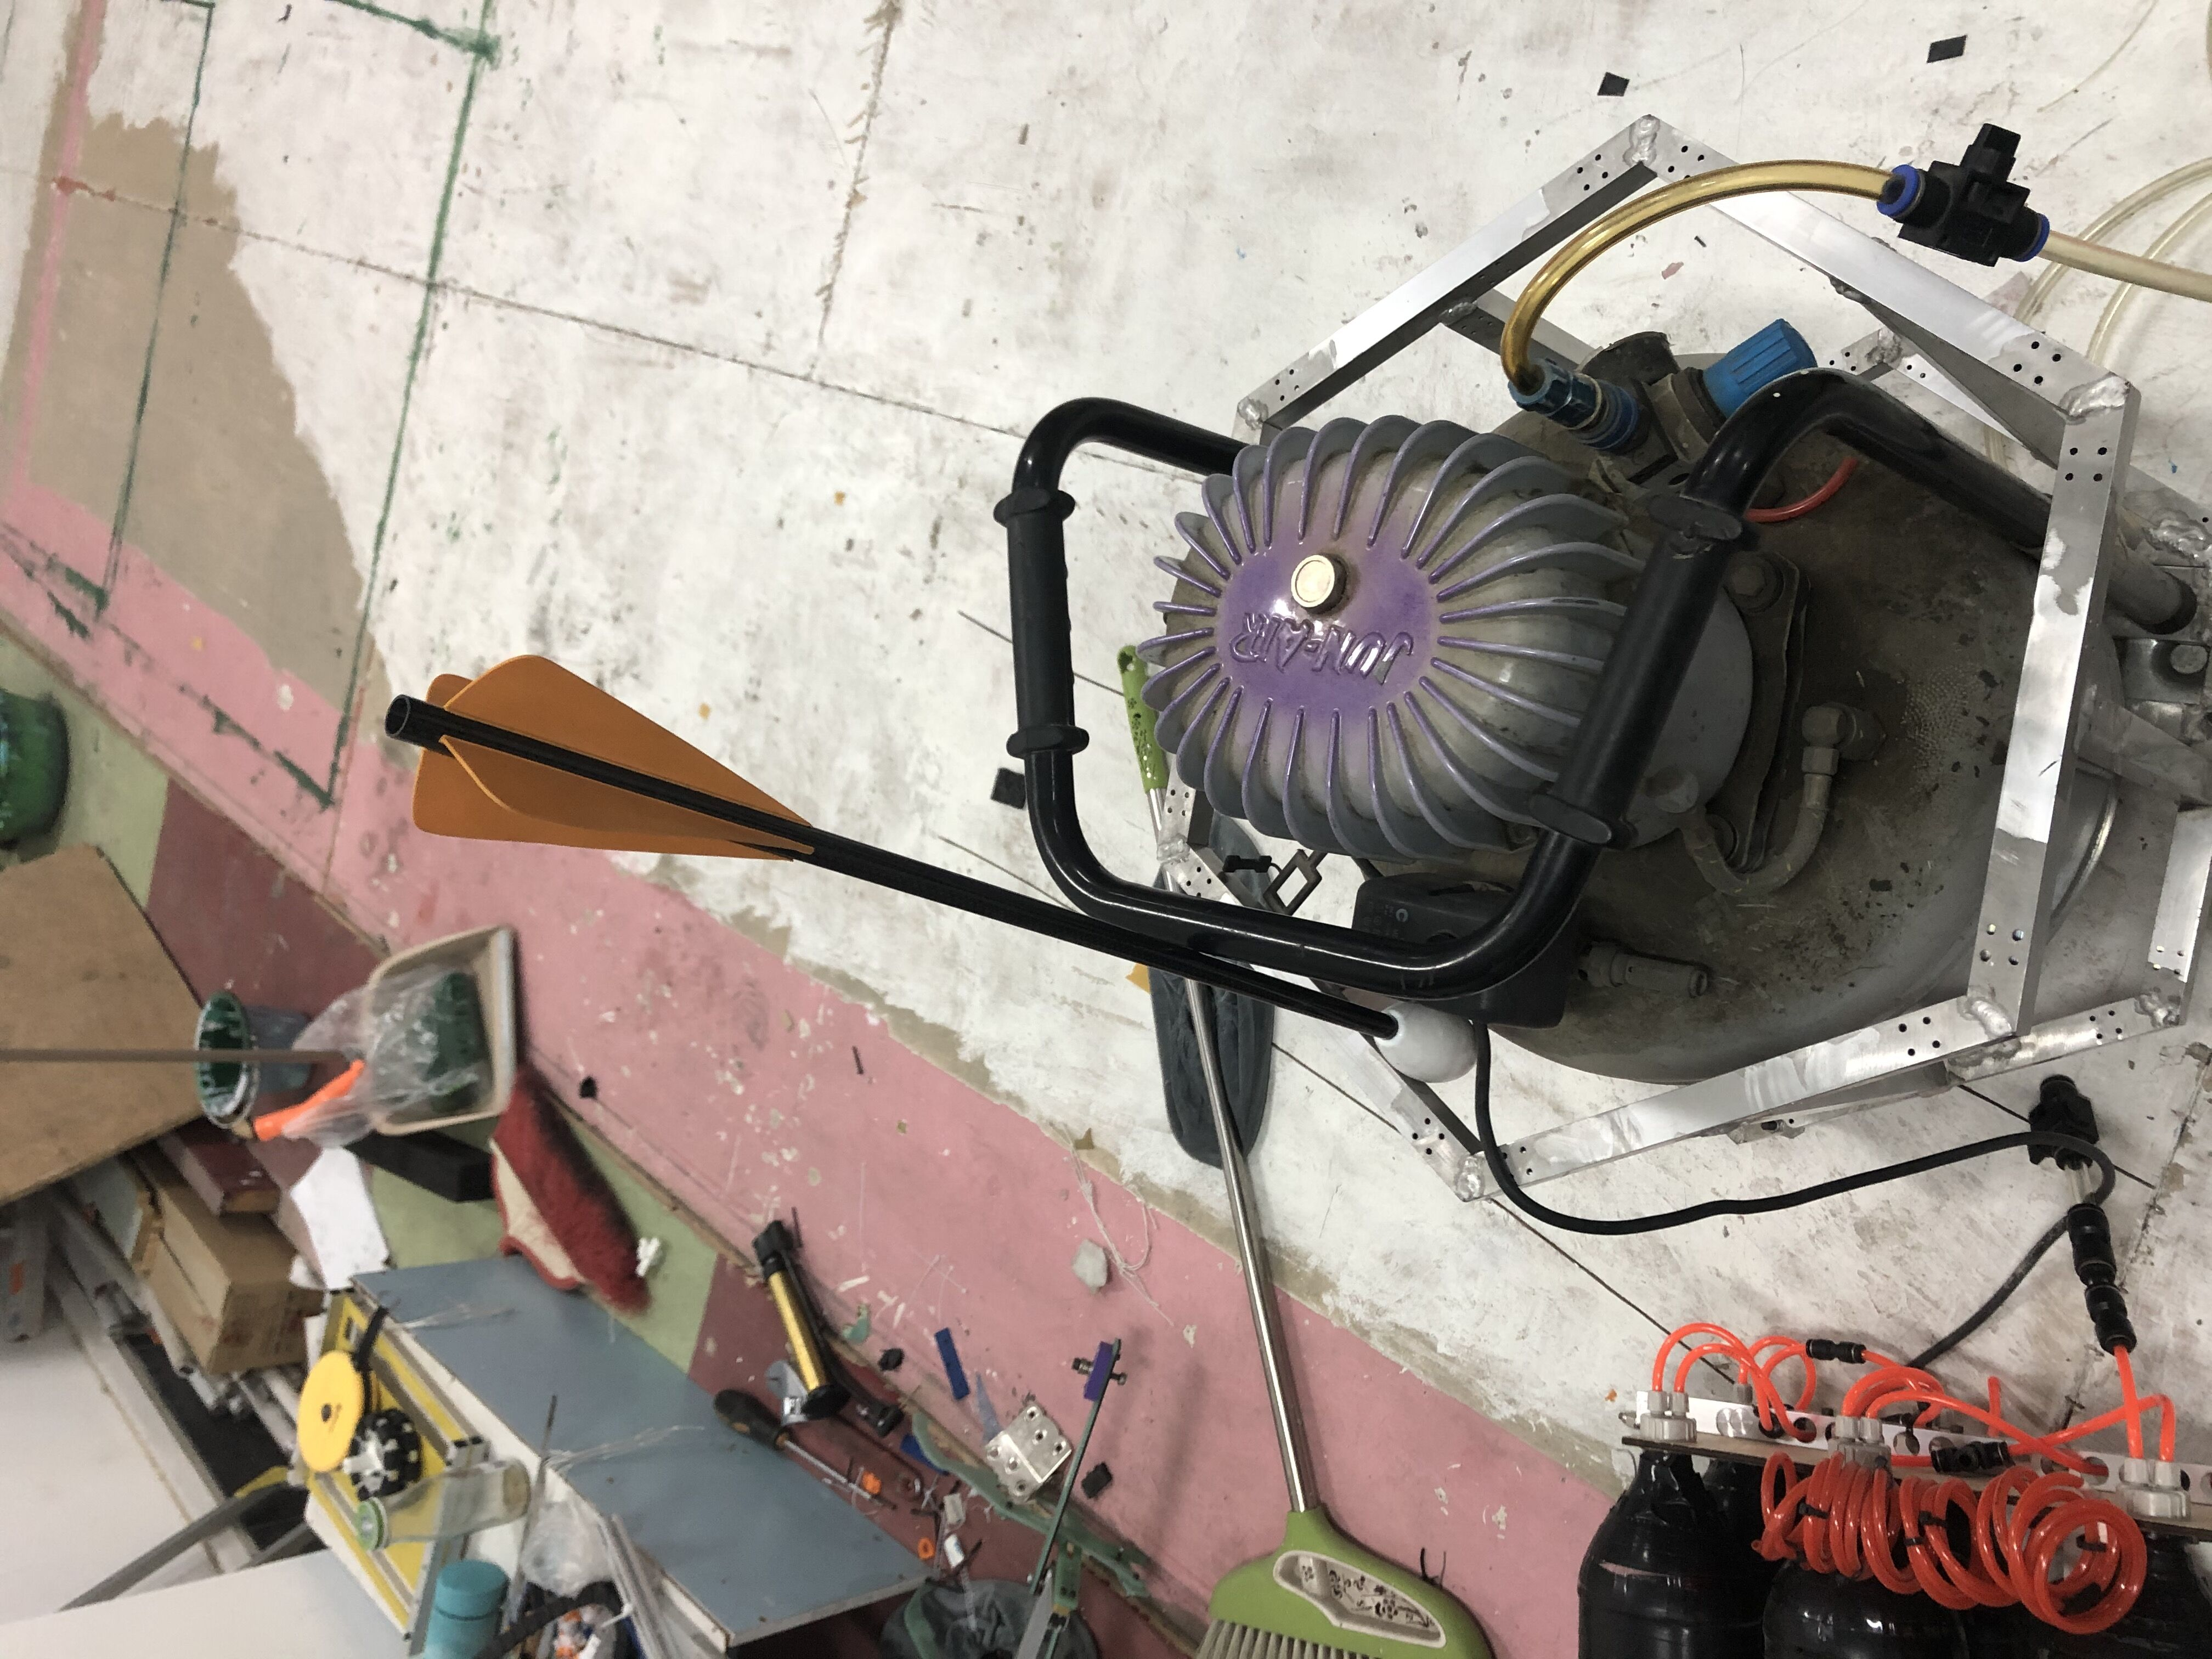arrow: (376, 643, 1496, 1091)
arrowFront: (1367, 1004, 1477, 1080)
